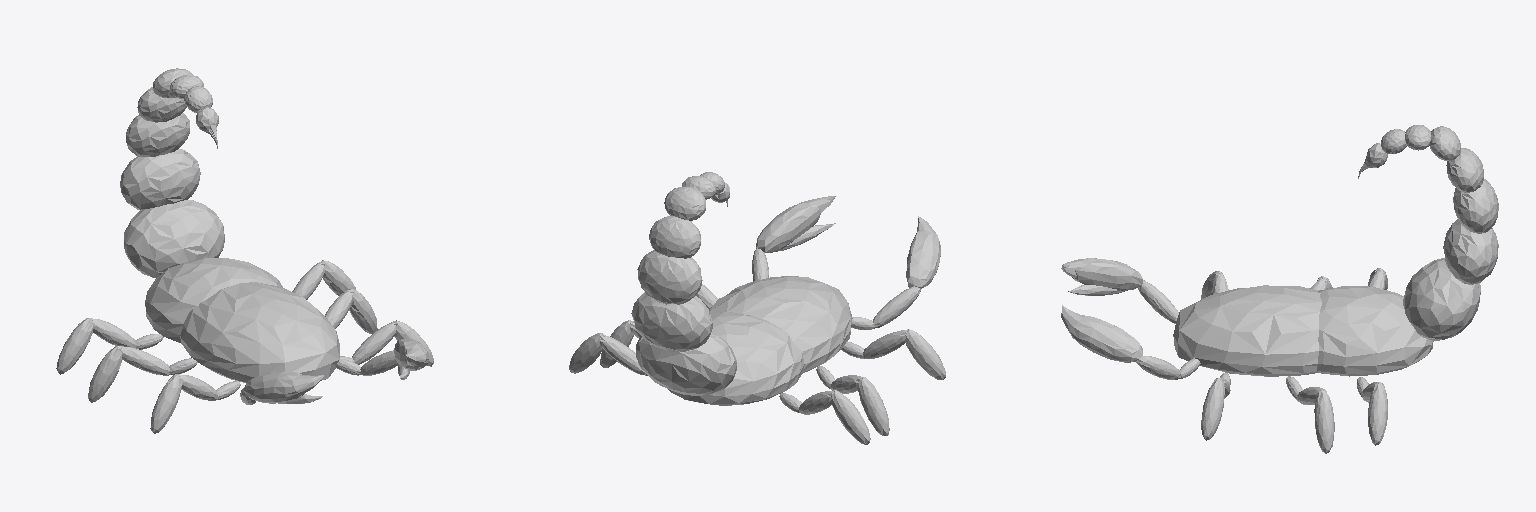
Rendered from scorpion_000028.obj.
3 views of the same model, side by side, from view 1: azimuth 30°, elevation 25°; view 2: azimuth 150°, elevation 25°; view 3: azimuth 270°, elevation 25° (orthographic).
Visible parts, largest first — view 1: Sphere.010_Sphere.012, Sphere.002_Sphere.004, Sphere.011_Sphere.013, Sphere.003_Sphere.005, Sphere.030_Sphere.000, Sphere.004_Sphere.006, Sphere.012_Sphere.020, Sphere.014_Sphere.023, Sphere.000_Sphere.019, Sphere.013_Sphere.017, Sphere.016_Sphere.022, Sphere.018_Sphere.025 (+5 smaller); view 2: Sphere.010_Sphere.012, Sphere.011_Sphere.013, Sphere.002_Sphere.004, Sphere.030_Sphere.000, Sphere.003_Sphere.005, Sphere.004_Sphere.006, Sphere.014_Sphere.023, Sphere.005_Sphere.007, Sphere.012_Sphere.020, Sphere.018_Sphere.025, Sphere.028_Sphere.046, Sphere.006_Sphere.008 (+2 smaller); view 3: Sphere.010_Sphere.012, Sphere.011_Sphere.013, Sphere.002_Sphere.004, Sphere.030_Sphere.000, Sphere.003_Sphere.005, Sphere.004_Sphere.006, Sphere.028_Sphere.046, Sphere.000_Sphere.019, Sphere.005_Sphere.007, Sphere.014_Sphere.023, Sphere.012_Sphere.020, Sphere.006_Sphere.008 (+1 smaller).
Boxes of the visible parts, x1=… form: Sphere.010_Sphere.012: x1=180, y1=282, x2=339, y2=382; Sphere.002_Sphere.004: x1=124, y1=200, x2=224, y2=277; Sphere.011_Sphere.013: x1=145, y1=258, x2=282, y2=342; Sphere.003_Sphere.005: x1=120, y1=149, x2=200, y2=209; Sphere.030_Sphere.000: x1=244, y1=339, x2=428, y2=403; Sphere.004_Sphere.006: x1=126, y1=113, x2=189, y2=156; Sphere.012_Sphere.020: x1=88, y1=289, x2=377, y2=402; Sphere.014_Sphere.023: x1=56, y1=260, x2=355, y2=374; Sphere.000_Sphere.019: x1=150, y1=320, x2=433, y2=433; Sphere.013_Sphere.017: x1=179, y1=321, x2=395, y2=400; Sphere.016_Sphere.022: x1=120, y1=290, x2=352, y2=375; Sphere.018_Sphere.025: x1=92, y1=261, x2=324, y2=347; Sphere.010_Sphere.012: x1=709, y1=276, x2=851, y2=372; Sphere.011_Sphere.013: x1=668, y1=311, x2=804, y2=405; Sphere.002_Sphere.004: x1=636, y1=331, x2=736, y2=395; Sphere.030_Sphere.000: x1=756, y1=196, x2=940, y2=288; Sphere.003_Sphere.005: x1=631, y1=292, x2=712, y2=351; Sphere.004_Sphere.006: x1=637, y1=250, x2=702, y2=304; Sphere.014_Sphere.023: x1=569, y1=333, x2=870, y2=444; Sphere.005_Sphere.007: x1=649, y1=216, x2=700, y2=258; Sphere.012_Sphere.020: x1=600, y1=320, x2=889, y2=435; Sphere.018_Sphere.025: x1=600, y1=335, x2=833, y2=414; Sphere.028_Sphere.046: x1=752, y1=248, x2=920, y2=327; Sphere.006_Sphere.008: x1=664, y1=187, x2=705, y2=220; Sphere.010_Sphere.012: x1=1173, y1=285, x2=1321, y2=376; Sphere.011_Sphere.013: x1=1317, y1=286, x2=1433, y2=376; Sphere.002_Sphere.004: x1=1403, y1=258, x2=1480, y2=340; Sphere.030_Sphere.000: x1=1061, y1=258, x2=1142, y2=362; Sphere.003_Sphere.005: x1=1443, y1=219, x2=1498, y2=284; Sphere.004_Sphere.006: x1=1453, y1=179, x2=1498, y2=233; Sphere.028_Sphere.046: x1=1136, y1=280, x2=1181, y2=379; Sphere.000_Sphere.019: x1=1201, y1=271, x2=1224, y2=440; Sphere.005_Sphere.007: x1=1446, y1=148, x2=1483, y2=192; Sphere.014_Sphere.023: x1=1368, y1=268, x2=1387, y2=445; Sphere.012_Sphere.020: x1=1314, y1=276, x2=1334, y2=453; Sphere.006_Sphere.008: x1=1430, y1=126, x2=1460, y2=160.
Size of the model in its own units: 0.9559 by 0.7855 by 1.21.